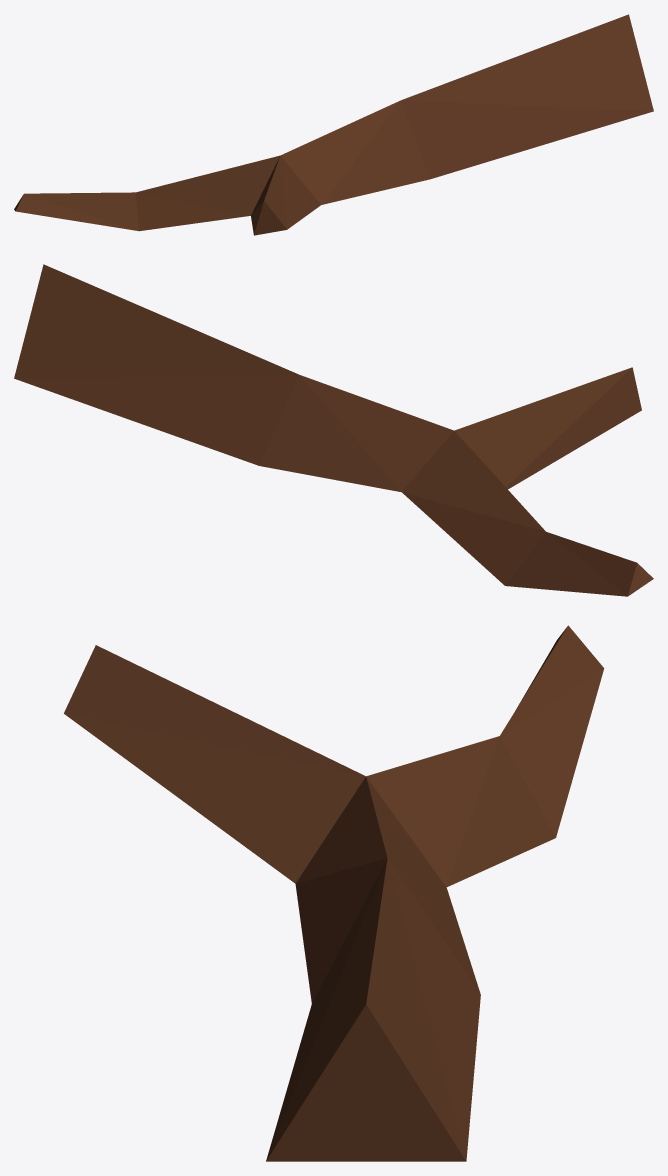
The model's file is PineBranch3.fbx.
3 renders of one model, top to bottom at view 1: azimuth 30°, elevation 25°; view 2: azimuth 150°, elevation 25°; view 3: azimuth 270°, elevation 25°, orthographic. The views are drawn at different scales.
Parts seen in each view (by area): view 1: PineBranch3; view 2: PineBranch3; view 3: PineBranch3.
Boxes of the visible parts, x1,y1,x2,y2 form: PineBranch3: (14,14,653,235); PineBranch3: (14,264,653,596); PineBranch3: (64,625,604,1161).
Size of the model in its own units: 113 by 25.06 by 46.81.
